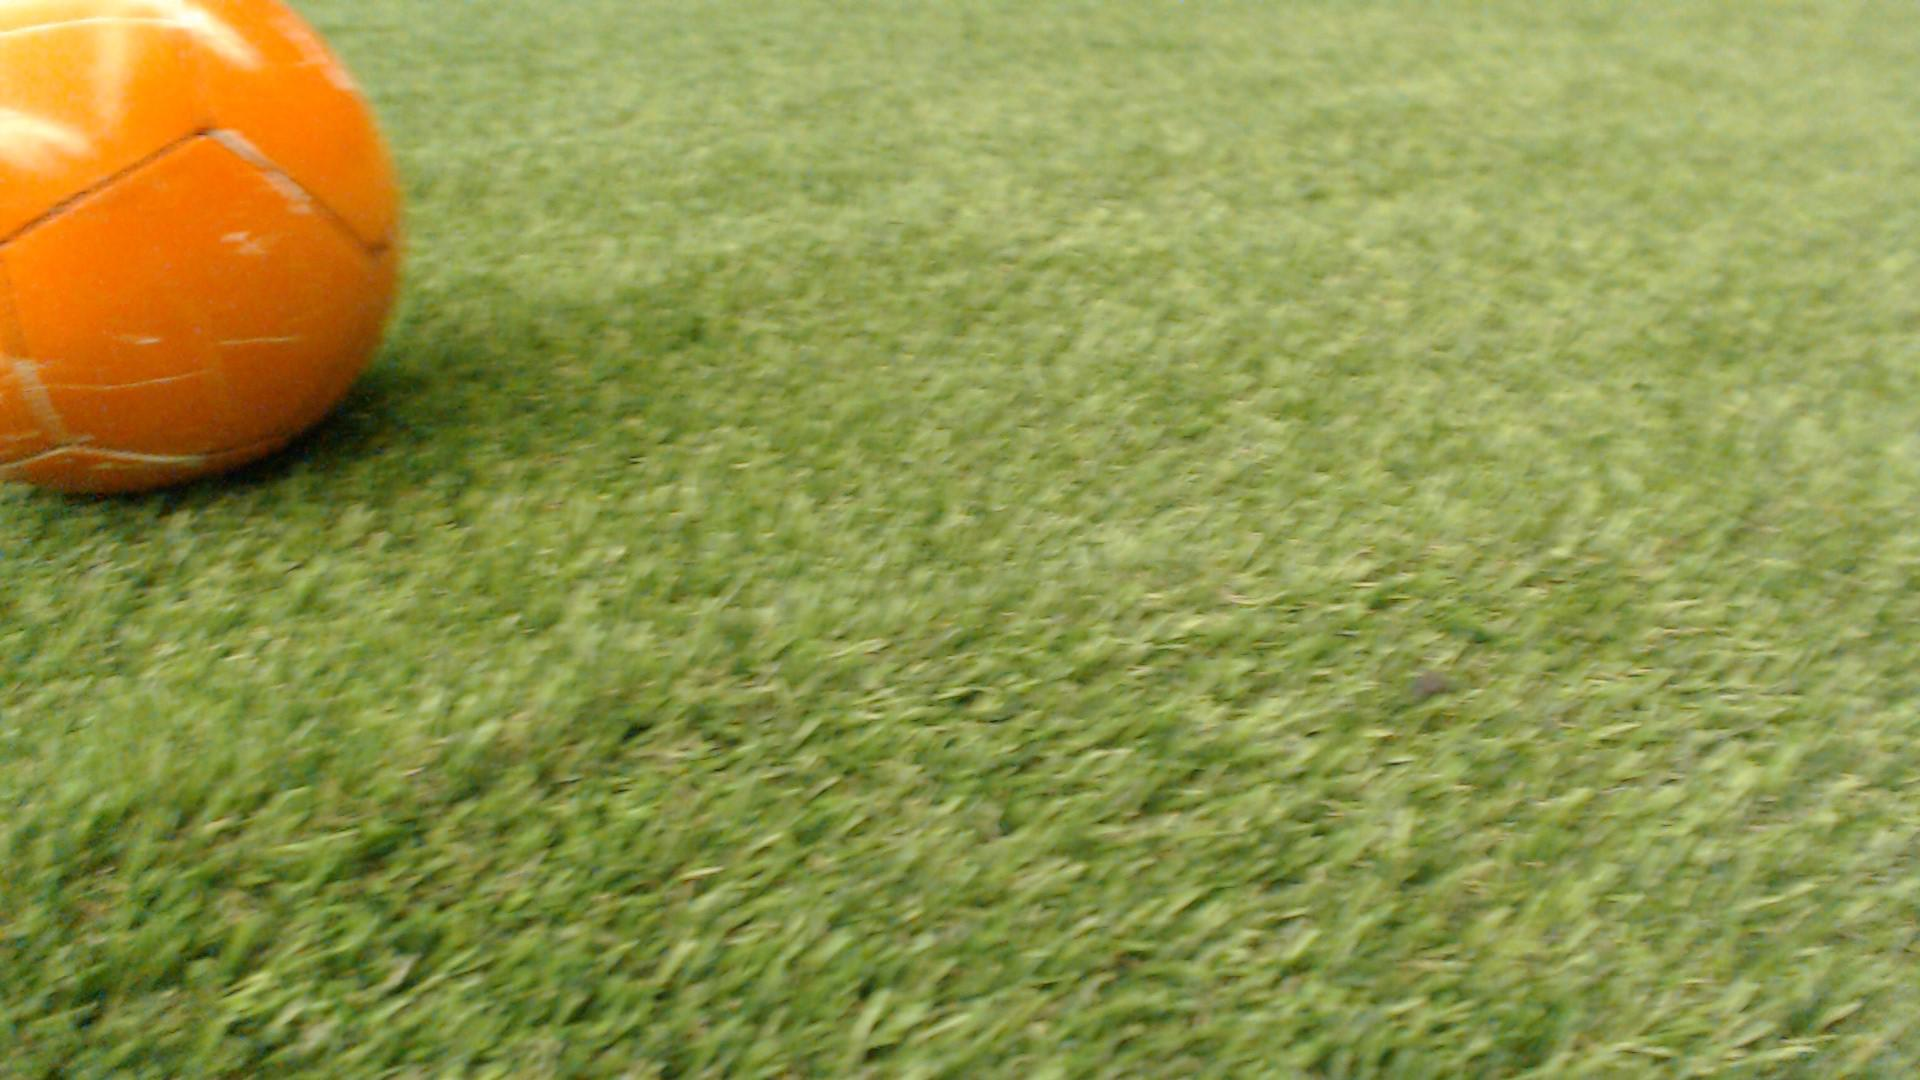bola: (0, 0, 446, 564)
